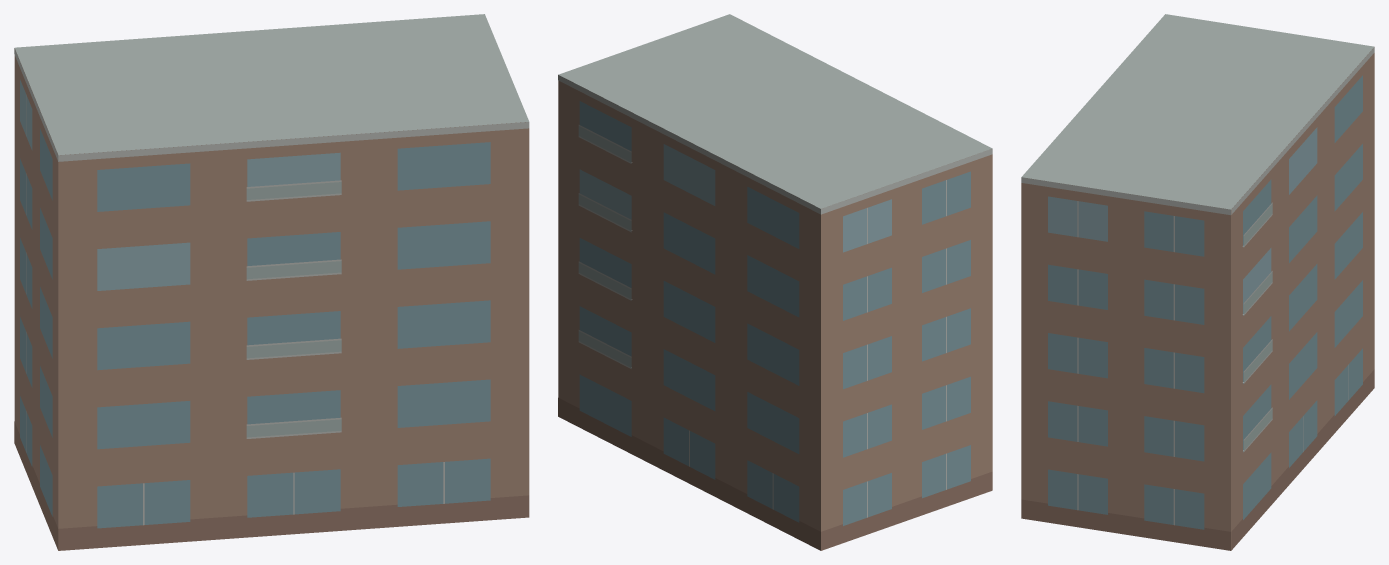
Rendered from survey-upis-32940157.glb.
The picture shows the model from 3 angles, left to right: view 1: azimuth 30°, elevation 25°; view 2: azimuth 150°, elevation 25°; view 3: azimuth 270°, elevation 25°; orthographic projection. The views are drawn at different scales.
Parts seen in each view (by area): view 1: survey-upis-32940157.tmp; view 2: survey-upis-32940157.tmp; view 3: survey-upis-32940157.tmp.
Boxes of the visible parts, x1=… form: survey-upis-32940157.tmp: x1=14, y1=14, x2=529, y2=550; survey-upis-32940157.tmp: x1=558, y1=14, x2=992, y2=550; survey-upis-32940157.tmp: x1=1021, y1=14, x2=1374, y2=550.
Bounding box in the file's own units: 18.01 × 14.65 × 13.75.
